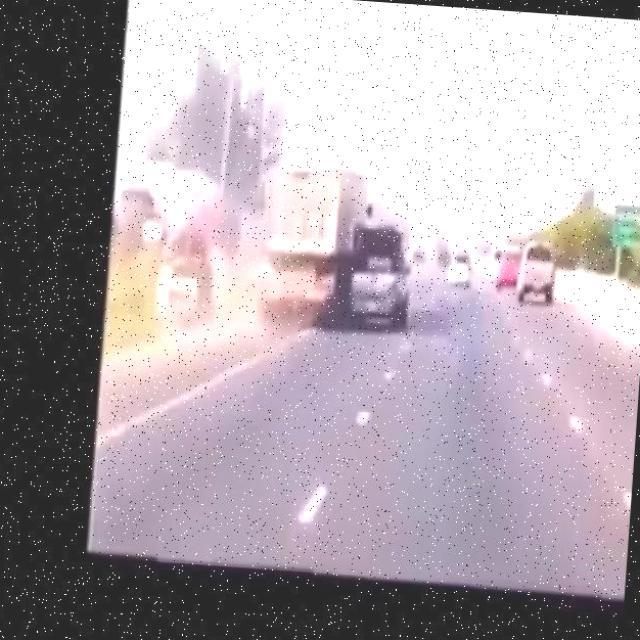accident: (257, 156, 426, 339)
